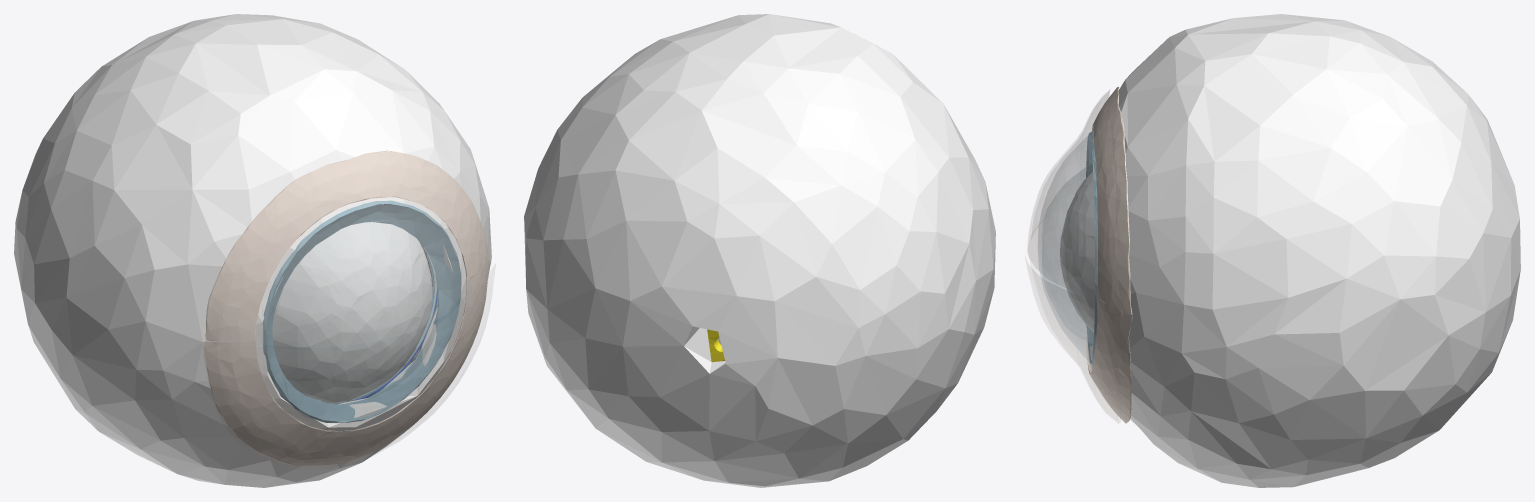
File: eye.glb
3 renders of one model, left to right at view 1: azimuth 30°, elevation 25°; view 2: azimuth 150°, elevation 25°; view 3: azimuth 270°, elevation 25°, orthographic.
Visible parts, largest first — view 1: VH_M_sclera_L, VH_M_palpebral_conjunctiva_of_upper_eyelid_L, VH_M_cornea_L, VH_M_bulbar_conjunctiva_L, VH_M_palpebral_conjunctiva_of_lower_eyelid_L, VH_M_aqueous_humor_L, VH_M_corneo_scleral_junction_L, VH_M_trabecular_meshwork_L; view 2: VH_M_sclera_L; view 3: VH_M_sclera_L, VH_M_palpebral_conjunctiva_of_upper_eyelid_L, VH_M_bulbar_conjunctiva_L, VH_M_cornea_L, VH_M_palpebral_conjunctiva_of_lower_eyelid_L, VH_M_aqueous_humor_L, VH_M_corneo_scleral_junction_L.
Boxes of the visible parts, x1,y1,x2,y2 form: VH_M_sclera_L: (14, 14, 491, 487); VH_M_palpebral_conjunctiva_of_upper_eyelid_L: (205, 159, 491, 346); VH_M_cornea_L: (263, 202, 460, 422); VH_M_bulbar_conjunctiva_L: (203, 150, 489, 465); VH_M_palpebral_conjunctiva_of_lower_eyelid_L: (202, 264, 495, 469); VH_M_aqueous_humor_L: (272, 222, 432, 402); VH_M_corneo_scleral_junction_L: (262, 200, 461, 422); VH_M_trabecular_meshwork_L: (316, 243, 438, 404); VH_M_sclera_L: (524, 14, 995, 487); VH_M_sclera_L: (1089, 14, 1520, 487); VH_M_palpebral_conjunctiva_of_upper_eyelid_L: (1027, 90, 1122, 315); VH_M_bulbar_conjunctiva_L: (1086, 86, 1132, 423); VH_M_cornea_L: (1038, 133, 1097, 365); VH_M_palpebral_conjunctiva_of_lower_eyelid_L: (1025, 229, 1120, 423); VH_M_aqueous_humor_L: (1060, 172, 1095, 332); VH_M_corneo_scleral_junction_L: (1086, 131, 1099, 365).
Bounding box in the file's own units: 0.0244 × 0.0244 × 0.0257.
